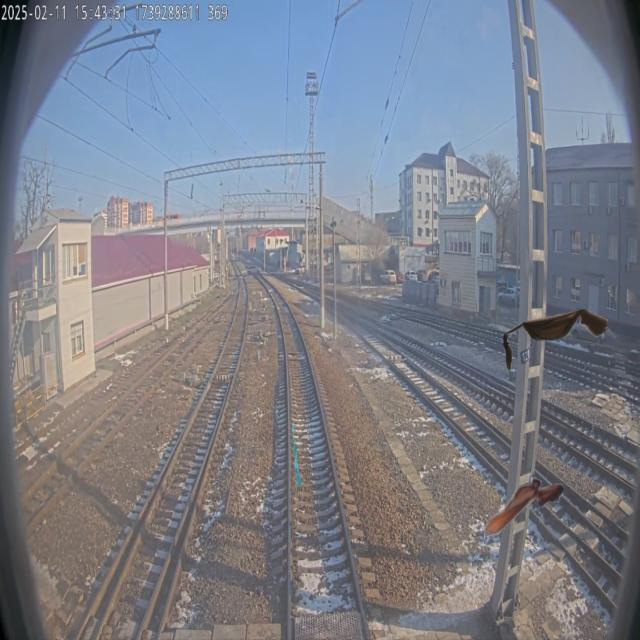floating object: (503, 307, 610, 371), (483, 476, 564, 540), (292, 423, 301, 487)
